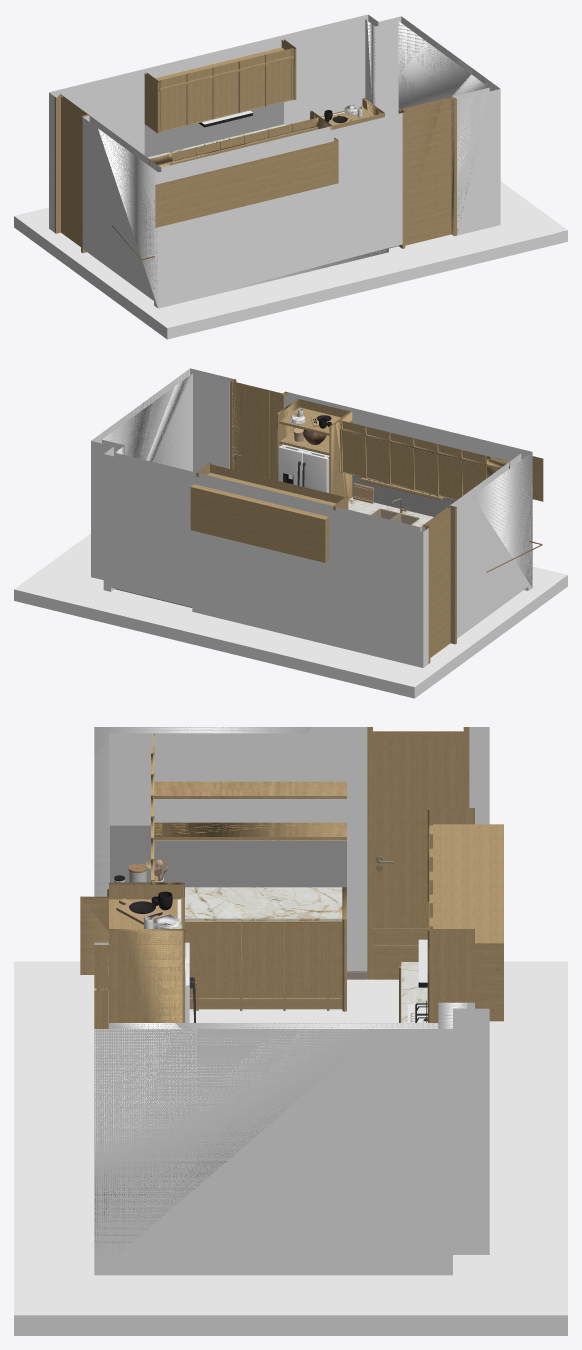
The model's file is R02_KITCHEN.glb.
3 renders of one model, top to bottom at view 1: azimuth 30°, elevation 25°; view 2: azimuth 150°, elevation 25°; view 3: azimuth 270°, elevation 25°, orthographic. The views are drawn at different scales.
Parts seen in each view (by area): view 1: Maket_R02_KITCHEN; view 2: Maket_R02_KITCHEN; view 3: Maket_R02_KITCHEN.
Part boxes in pixels (bbox=[...]): Maket_R02_KITCHEN: bbox=[14, 14, 567, 339]; Maket_R02_KITCHEN: bbox=[14, 368, 567, 698]; Maket_R02_KITCHEN: bbox=[14, 727, 567, 1335].
Bounding box in the file's own units: 0.3694 × 0.13 × 0.2445.
57 materials, 28 textured.
